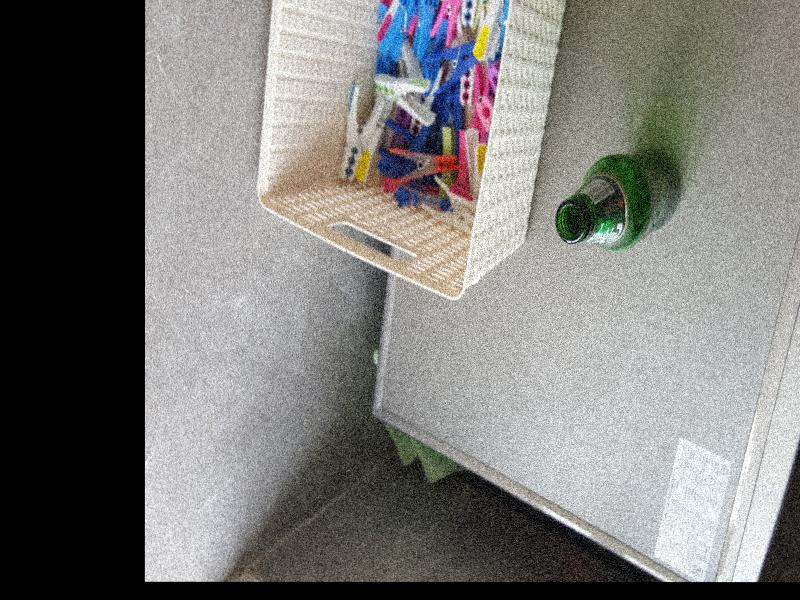Beer: (556, 151, 683, 244)
